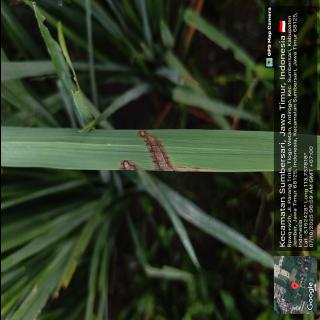Blast: (145, 132, 174, 172), (120, 160, 136, 171), (138, 130, 146, 138)
